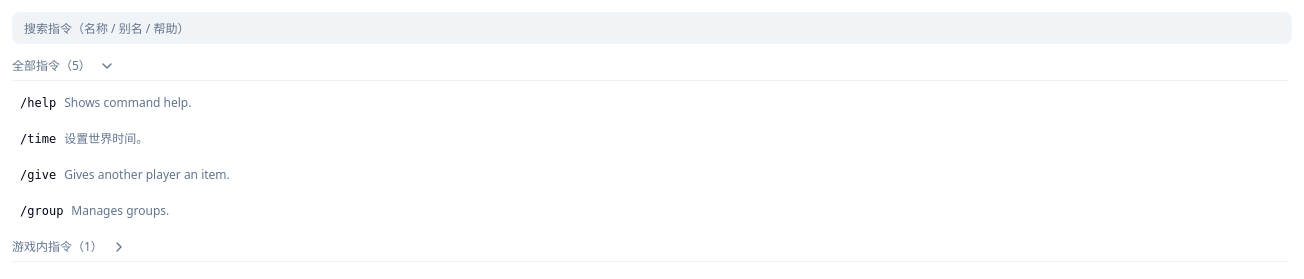
Test: CommandPickerPanel（指令列表） › 「全部指令」分组可折叠
Check: the text "/help" is shown, box [20,93,56,113]
Click the button "全部指令（5）" at (51, 66), box [12,52,1288,81]
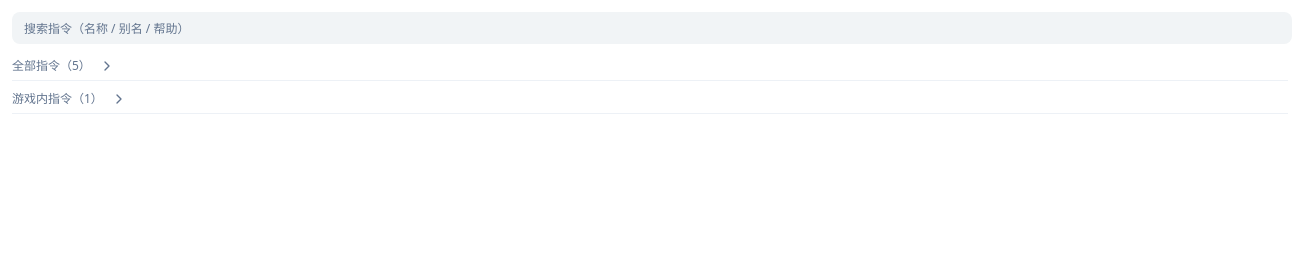
Check: the button "全部指令（5）" is collapsed, box [12,52,1288,81]
Check: the button "/help" is gone
